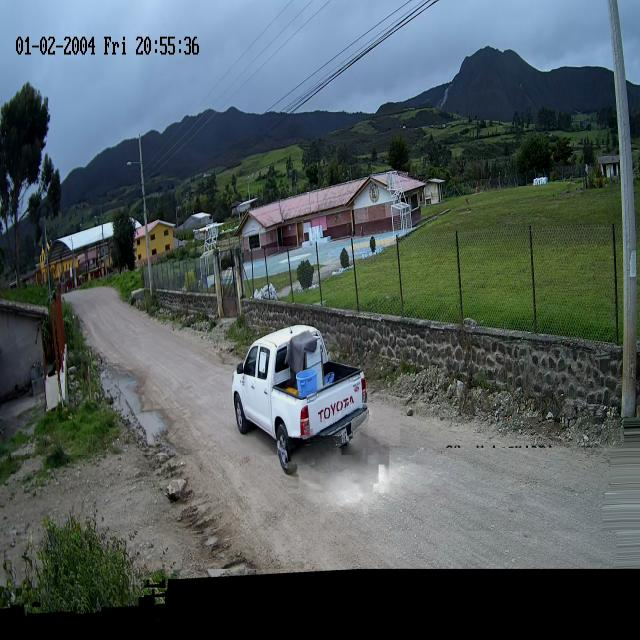CMT: (232, 326, 368, 470)
